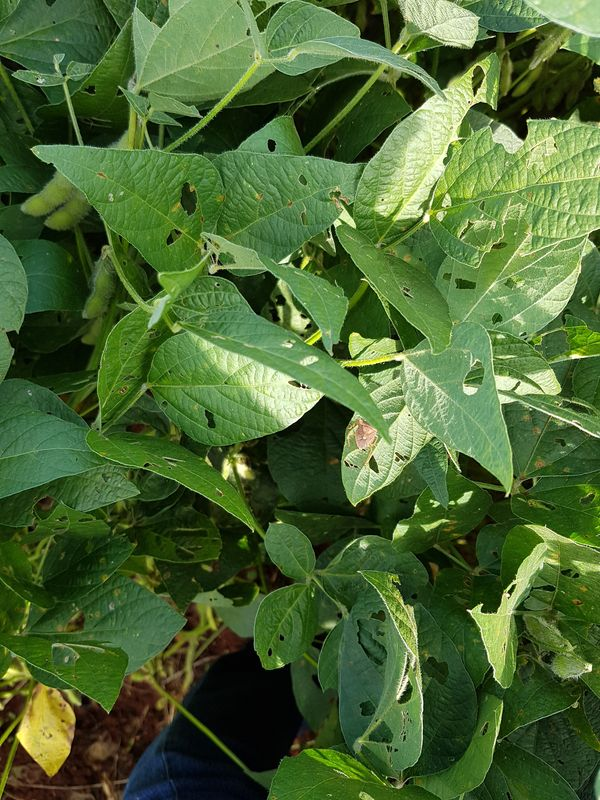Euschistus_heros_adulto: (341, 411, 388, 463)
